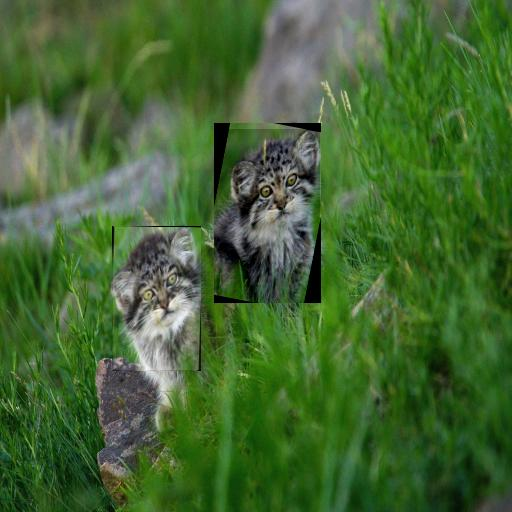manul: (214, 130, 320, 303), (113, 227, 201, 370)
